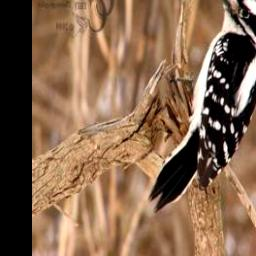Woodpecker: (147, 0, 256, 219)
